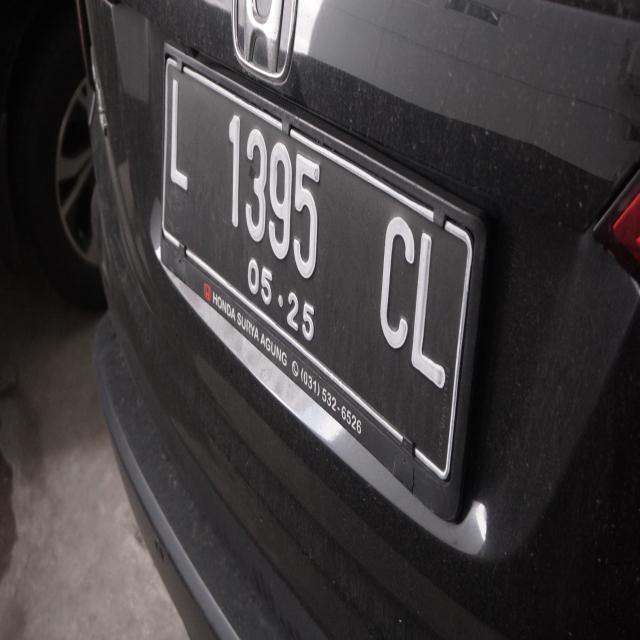1: (220, 95, 246, 239)
3: (244, 103, 268, 259)
5: (294, 133, 322, 290)
9: (270, 116, 292, 274)
C: (371, 189, 418, 365)
L: (401, 208, 452, 404), (159, 66, 192, 208)
